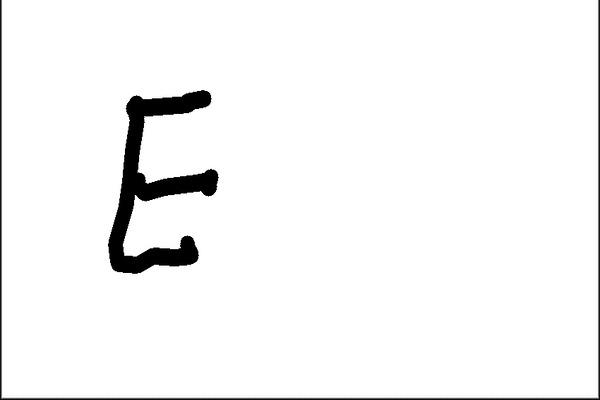E: (93, 85, 224, 278)
